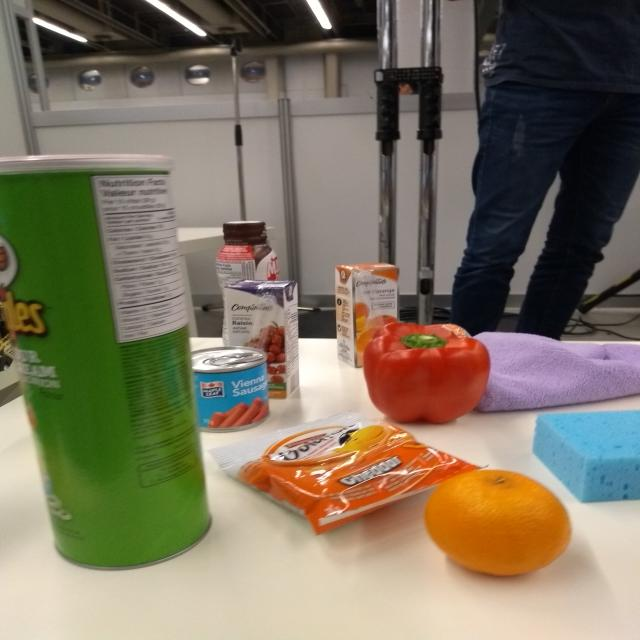chocolate_drink: (212, 215, 288, 284)
cloth_opl: (474, 325, 639, 421)
grape_juice: (221, 273, 304, 401)
orange: (421, 467, 584, 580)
orange_juice: (330, 259, 406, 368)
paprika: (361, 320, 490, 428)
sausages: (193, 346, 274, 431)
sponge_opl: (527, 404, 640, 498)
